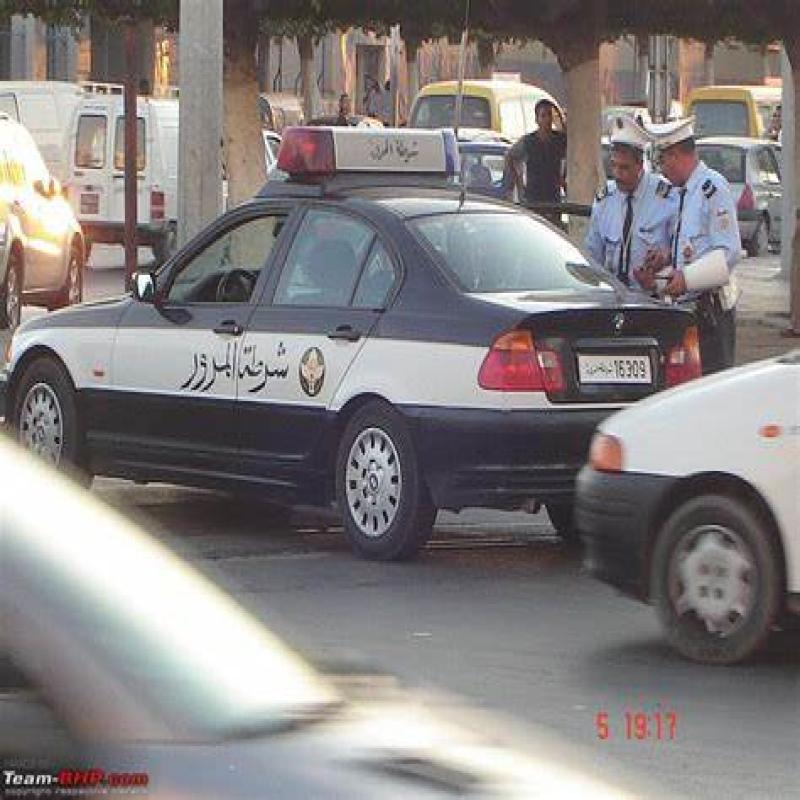AmbulanceSiren: (278, 109, 478, 193)
car: (0, 168, 719, 472)
